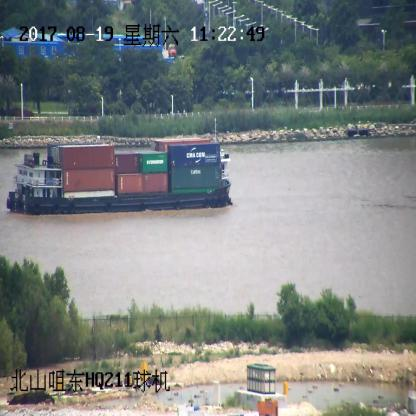Container Ship: (5, 144, 233, 213)
